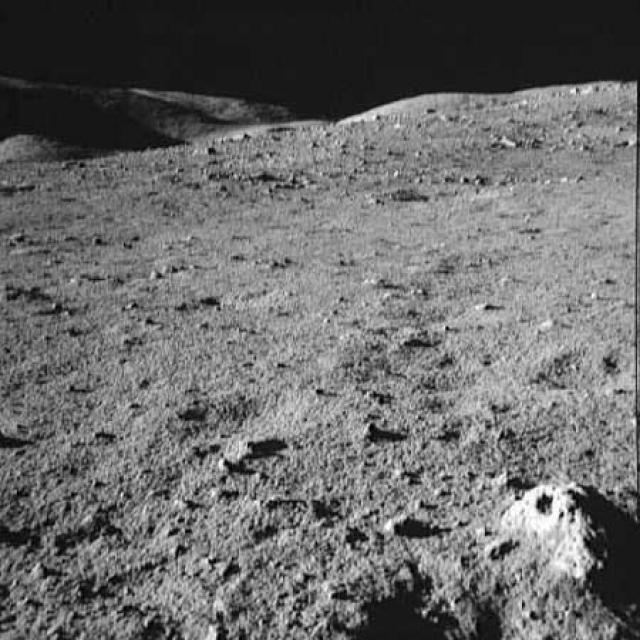rock: (504, 467, 638, 587), (216, 432, 287, 467), (146, 255, 207, 280)
